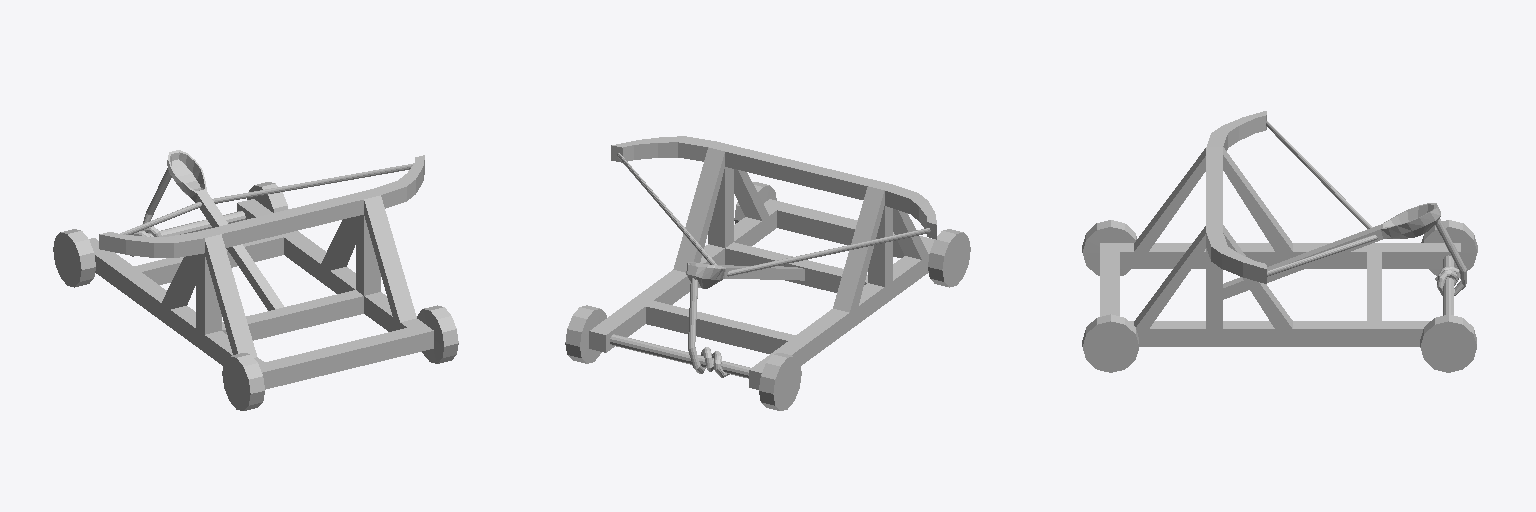
File: catapult.obj
3 renders of one model, left to right at view 1: azimuth 30°, elevation 25°; view 2: azimuth 150°, elevation 25°; view 3: azimuth 270°, elevation 25°, orthographic.
Parts seen in each view (by area): view 1: catapult_Mesh; view 2: catapult_Mesh; view 3: catapult_Mesh.
Part boxes in pixels (bbox=[...]): catapult_Mesh: bbox=[53, 150, 458, 410]; catapult_Mesh: bbox=[565, 136, 970, 410]; catapult_Mesh: bbox=[1082, 111, 1477, 372].
Size of the model in its own units: 19.22 by 7.47 by 20.16.